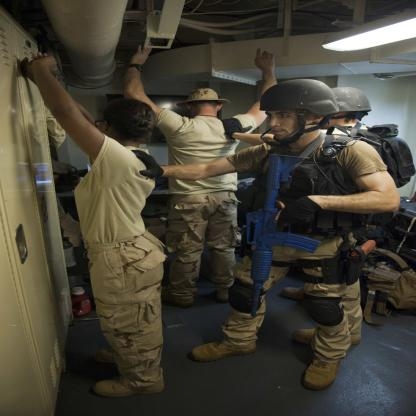Helmet: (255, 81, 349, 154), (327, 86, 374, 123), (178, 88, 228, 108)
